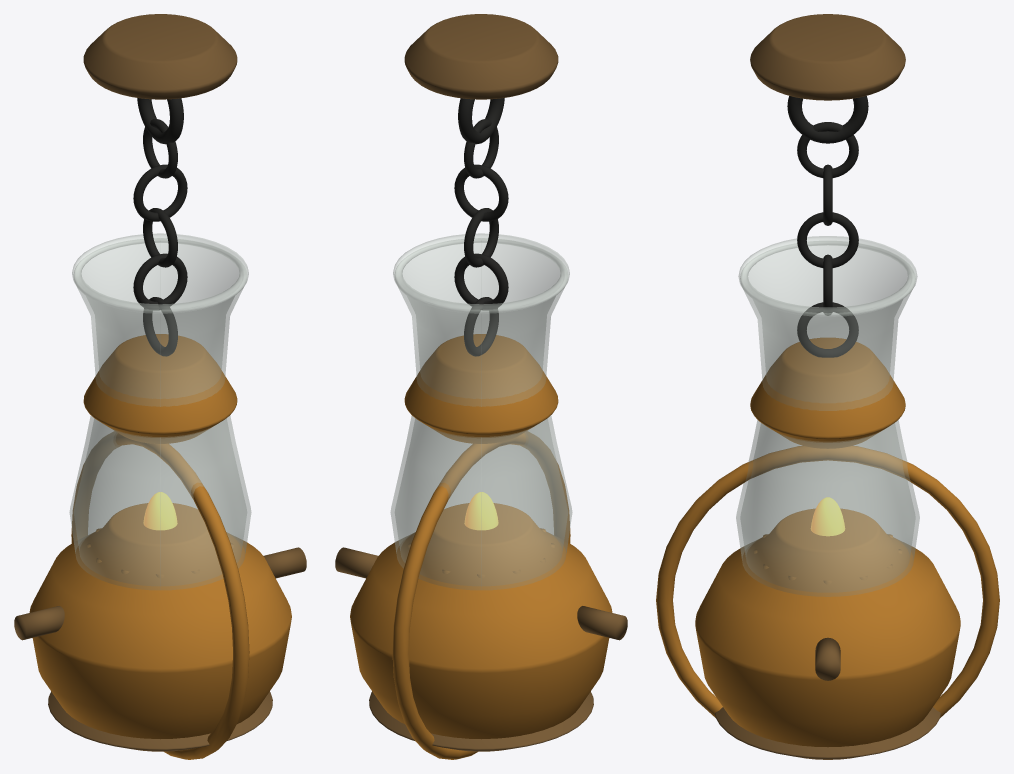
Rendered from period-hanging-oil-lamp.glb.
3 renders of one model, left to right at view 1: azimuth 30°, elevation 25°; view 2: azimuth 150°, elevation 25°; view 3: azimuth 270°, elevation 25°, orthographic.
Parts seen in each view (by area): view 1: LampGlassChimney, LampReservoir, LampUpperCap, LampCeilingRose, LampGimbalOuter, LampChimneyLip, LampReservoirLowerBand, LampChainLink_1, LampChainLink_3, LampGimbalPivot_-1, LampCeilingHook, LampChainLink_4 (+4 smaller); view 2: LampGlassChimney, LampReservoir, LampUpperCap, LampCeilingRose, LampGimbalOuter, LampChimneyLip, LampReservoirLowerBand, LampChainLink_1, LampChainLink_3, LampGimbalPivot_-1, LampCeilingHook, LampChainLink_4 (+4 smaller); view 3: LampGlassChimney, LampReservoir, LampGimbalOuter, LampUpperCap, LampCeilingRose, LampChimneyLip, LampReservoirLowerBand, LampCeilingHook, LampChainLink_4, LampChainLink_2, LampChainLink_0, PeriodLampFlame_Main (+3 smaller).
Boxes of the visible parts, box(x1,y1,x2,y2) form: LampGlassChimney: box(69, 238, 251, 589); LampReservoir: box(29, 503, 291, 739); LampUpperCap: box(83, 334, 237, 443); LampCeilingRose: box(83, 14, 237, 99); LampGimbalOuter: box(71, 431, 249, 759); LampChimneyLip: box(72, 233, 248, 313); LampReservoirLowerBand: box(48, 691, 272, 751); LampChainLink_1: box(133, 164, 187, 221); LampChainLink_3: box(133, 253, 187, 310); LampGimbalPivot_-1: box(14, 606, 64, 640); LampCeilingHook: box(137, 98, 183, 144); LampChainLink_4: box(143, 297, 177, 356); LampGlassChimney: box(390, 238, 572, 589); LampReservoir: box(350, 503, 612, 739); LampUpperCap: box(404, 334, 558, 443); LampCeilingRose: box(404, 14, 558, 99); LampGimbalOuter: box(392, 431, 570, 759); LampChimneyLip: box(393, 233, 569, 313); LampReservoirLowerBand: box(369, 691, 593, 751); LampChainLink_1: box(454, 164, 508, 221); LampChainLink_3: box(454, 253, 508, 310); LampGimbalPivot_-1: box(577, 606, 627, 640); LampCeilingHook: box(458, 98, 504, 144); LampChainLink_4: box(464, 297, 498, 356); LampGlassChimney: box(736, 241, 919, 596); LampReservoir: box(695, 508, 960, 747); LampGimbalOuter: box(656, 446, 999, 717); LampUpperCap: box(750, 337, 905, 448); LampCeilingRose: box(750, 14, 905, 100); LampChimneyLip: box(738, 236, 917, 316); LampReservoirLowerBand: box(715, 707, 940, 759); LampCeilingHook: box(787, 96, 868, 143); LampChainLink_4: box(797, 302, 858, 357); LampChainLink_2: box(797, 212, 858, 267); LampChainLink_0: box(797, 122, 858, 177); PeriodLampFlame_Main: box(810, 497, 845, 536).
Bounding box in the file's own units: 0.54 × 1.31 × 0.568.
